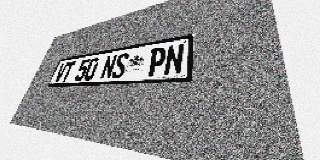0: (83, 57, 100, 81)
5: (74, 59, 91, 81)
N: (163, 43, 185, 76), (99, 54, 118, 80)
P: (146, 46, 167, 77)
S: (111, 52, 130, 79)
T: (60, 61, 76, 82)
V: (53, 62, 69, 83)
